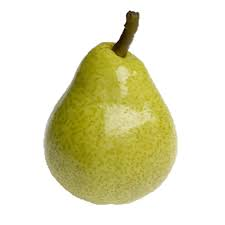pear: (43, 42, 179, 205)
